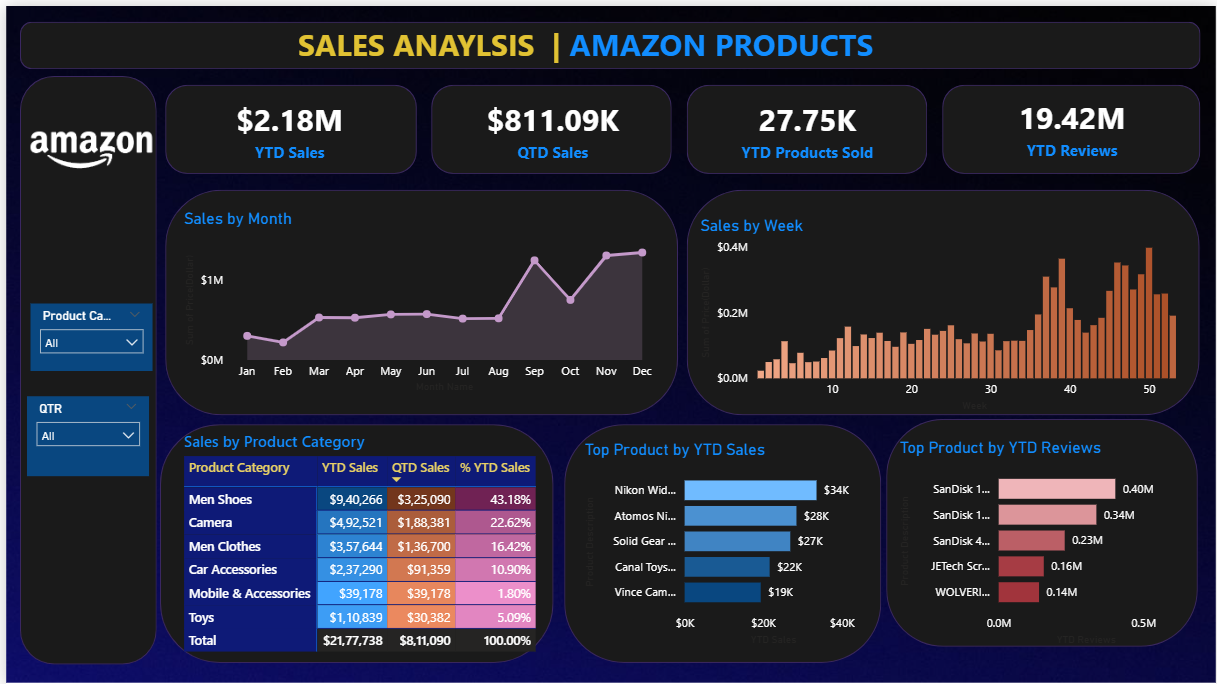

Layout of this report page (visuals, bound fields, positions):
{"tool":"powerbi","page":{"name":"Page 1","canvas":[1280,720],"ordinal":0},"visuals":[{"type":"shape","box":[15.4,17.3,1249.2,50.1],"z":0},{"type":"shape","box":[15.4,73.3,144.6,622.7],"z":2000},{"type":"shape","box":[168.3,82.4,266.2,94.4],"z":3000},{"type":"shape","box":[450.3,82.9,254.5,94.5],"z":4000},{"type":"card","fields":{"Values":["Amazon_Data.QTD Sales"]},"box":[464.6,90.6,227.5,79],"z":5000},{"type":"card","fields":{"Values":["Amazon_Data.YTD Sales"]},"box":[182,91,237,79],"z":6000},{"type":"shape","box":[720.6,82.9,254.5,94.5],"z":7000},{"type":"shape","box":[990.8,82.4,273,94.4],"z":8000},{"type":"card","fields":{"Values":["Amazon_Data.YTD Products Sold"]},"box":[728.1,91,240.4,79],"z":9000},{"type":"card","fields":{"Values":["Amazon_Data.YTD Reviews"]},"box":[1008.2,88.7,241,79],"z":10000},{"type":"shape","box":[168.3,194,542.6,238.7],"z":11000},{"type":"areaChart","title":"Sales by Month ","fields":{"Category":["Date Table.Month Name"],"Y":["Sum(Amazon_Data.Price(Dollar))"]},"box":[183.7,214.7,510,199.2],"z":12000},{"type":"shape","box":[719.5,194,542.6,238.7],"z":13000},{"type":"columnChart","title":"Sales by Week","fields":{"Category":["Date Table.Week"],"Y":["Sum(Amazon_Data.Price(Dollar))"]},"box":[729.8,221.5,534.1,211.2],"z":14000},{"type":"shape","box":[163.9,443.4,416.4,252.5],"z":15000},{"type":"pivotTable","title":"Sales by Product Category ","fields":{"Rows":["Amazon_Data.Product Category"],"Values":["Amazon_Data.YTD Sales1","Amazon_Data.QTD Sales","Amazon_Data.YTD Sales"]},"box":[183.1,449.2,399,239],"z":16000},{"type":"shape","box":[589.9,443.4,335.4,252.5],"z":17000},{"type":"shape","box":[931.1,437.6,329.6,241],"z":18000},{"type":"clusteredBarChart","title":"Top Product by YTD Sales","fields":{"Category":["Amazon_Data.Product Description"],"Y":["Amazon_Data.YTD Sales"]},"box":[607.2,458.8,318.1,221.7],"z":19000},{"type":"clusteredBarChart","title":"Top Product by YTD Reviews","fields":{"Category":["Amazon_Data.Product Description"],"Y":["Amazon_Data.YTD Reviews"]},"box":[940.7,456.9,314.2,223.6],"z":20000},{"type":"slicer","fields":{"Values":["Amazon_Data.Product Category"]},"box":[25.1,314.2,129.2,71.3],"z":21000},{"type":"slicer","fields":{"Values":["Date Table.QTR"]},"box":[23.1,412.5,129.2,84.8],"z":22000},{"type":"image","box":[25.1,111.8,129.2,82.9],"z":23000},{"type":"textbox","box":[69.4,13.5,1098.8,54],"z":23001}]}

Visuals, with their boxes in screenshot pixels (x1, y1, x2, y2), scaled from the page's 1280x720 canvas onto the 1217x684 screenshot:
shape: x1=15 y1=16 x2=1202 y2=64
shape: x1=15 y1=70 x2=152 y2=661
shape: x1=160 y1=78 x2=413 y2=168
shape: x1=428 y1=79 x2=670 y2=169
card - Amazon_Data.QTD Sales: x1=442 y1=86 x2=658 y2=161
card - Amazon_Data.YTD Sales: x1=173 y1=86 x2=398 y2=162
shape: x1=685 y1=79 x2=927 y2=169
shape: x1=942 y1=78 x2=1202 y2=168
card - Amazon_Data.YTD Products Sold: x1=692 y1=86 x2=921 y2=162
card - Amazon_Data.YTD Reviews: x1=959 y1=84 x2=1188 y2=159
shape: x1=160 y1=184 x2=676 y2=411
"Sales by Month " areaChart: x1=175 y1=204 x2=660 y2=393
shape: x1=684 y1=184 x2=1200 y2=411
"Sales by Week" columnChart: x1=694 y1=210 x2=1202 y2=411
shape: x1=156 y1=421 x2=552 y2=661
"Sales by Product Category " pivotTable: x1=174 y1=427 x2=553 y2=654
shape: x1=561 y1=421 x2=880 y2=661
shape: x1=885 y1=416 x2=1199 y2=645
"Top Product by YTD Sales" clusteredBarChart: x1=577 y1=436 x2=880 y2=646
"Top Product by YTD Reviews" clusteredBarChart: x1=894 y1=434 x2=1193 y2=646
slicer - Amazon_Data.Product Category: x1=24 y1=298 x2=147 y2=366
slicer - Date Table.QTR: x1=22 y1=392 x2=145 y2=472
image: x1=24 y1=106 x2=147 y2=185
textbox: x1=66 y1=13 x2=1111 y2=64
